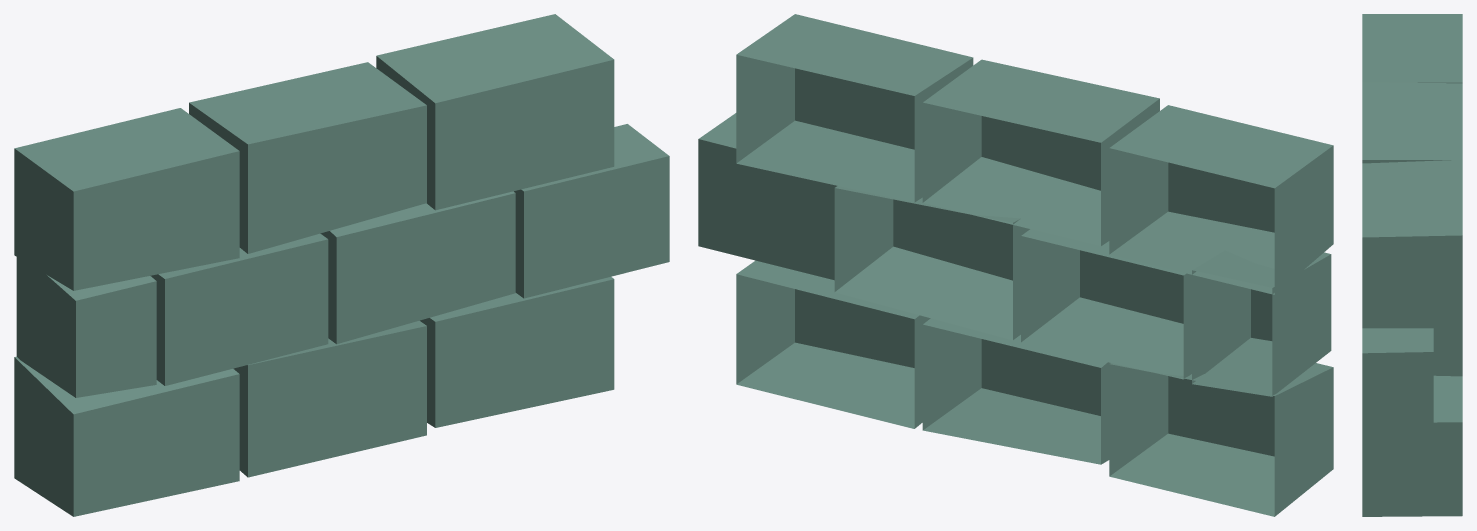
Rendered from Bricks_RightStraight.glb.
3 renders of one model, left to right at view 1: azimuth 30°, elevation 25°; view 2: azimuth 150°, elevation 25°; view 3: azimuth 270°, elevation 25°, orthographic. The views are drawn at different scales.
Visible parts, largest first — view 1: Bricks_RightStraight; view 2: Bricks_RightStraight; view 3: Bricks_RightStraight.
Part boxes in pixels (bbox=[...]): Bricks_RightStraight: bbox=[14, 14, 669, 516]; Bricks_RightStraight: bbox=[698, 14, 1333, 516]; Bricks_RightStraight: bbox=[1362, 14, 1462, 516].
Size of the model in its own units: 0.7945 by 0.4263 by 0.1364.
1 material, 1 textured.
